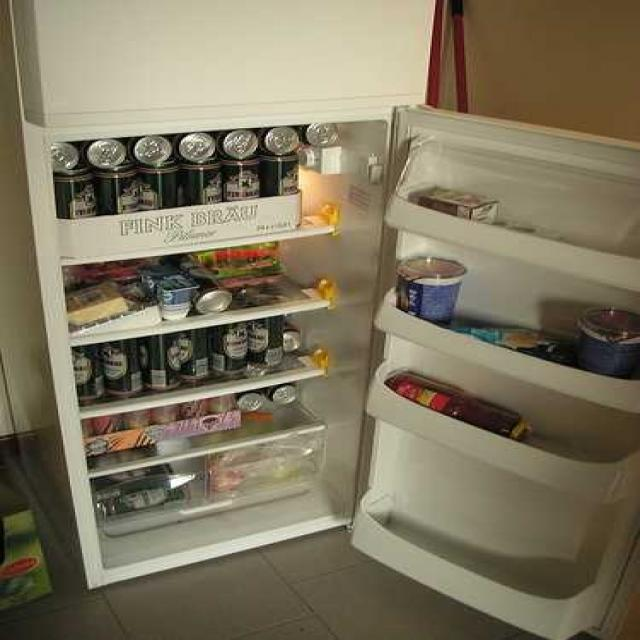refrigerator: (0, 15, 613, 640)
